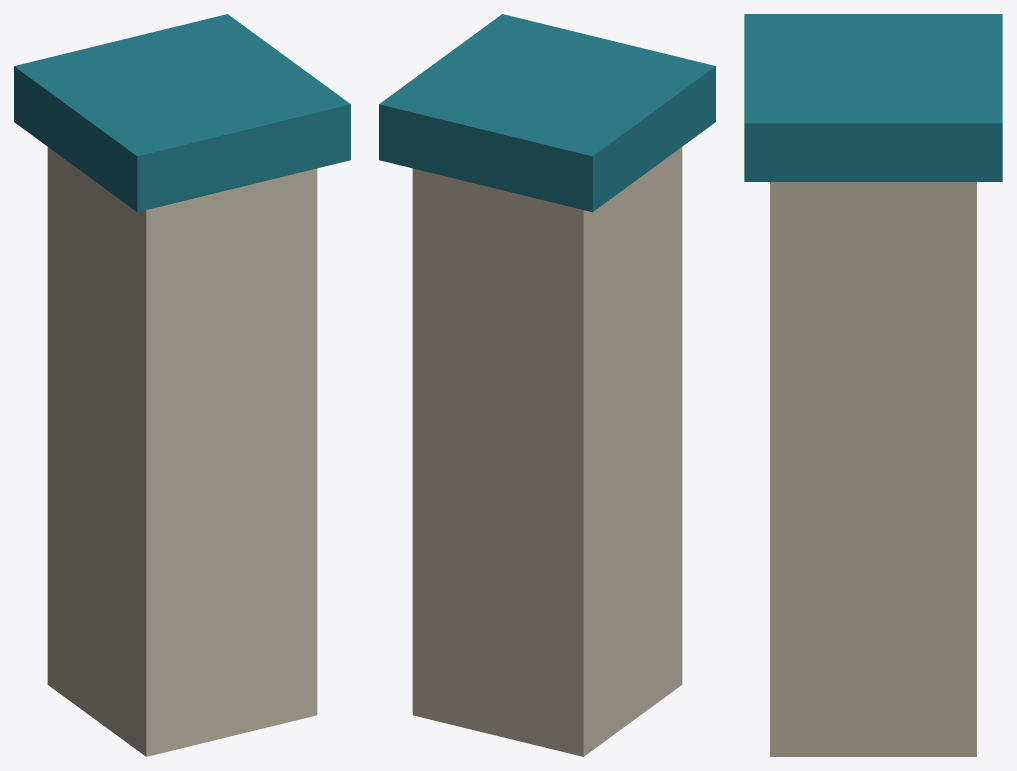
Rendered from chimney.glb.
3 renders of one model, left to right at view 1: azimuth 30°, elevation 25°; view 2: azimuth 150°, elevation 25°; view 3: azimuth 270°, elevation 25°, orthographic. The views are drawn at different scales.
Parts seen in each view (by area): view 1: chimney; view 2: chimney; view 3: chimney.
Part boxes in pixels (bbox=[...]): chimney: bbox=[14, 14, 350, 756]; chimney: bbox=[379, 14, 715, 756]; chimney: bbox=[744, 14, 1002, 756].
Bounding box in the file's own units: 0.2 × 0.55 × 0.2.
